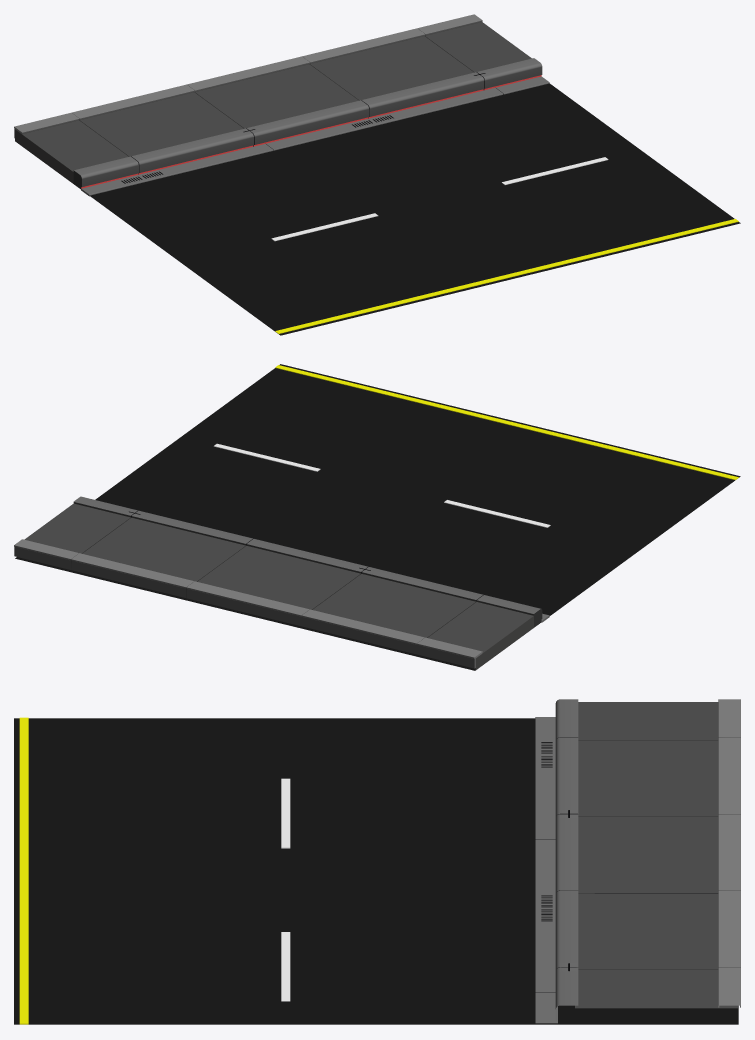
The picture shows the model from 3 angles, top to bottom: view 1: azimuth 30°, elevation 25°; view 2: azimuth 150°, elevation 25°; view 3: azimuth 270°, elevation 25°; orthographic projection. The views are drawn at different scales.
Visible parts, largest first — view 1: W_R_001_8x8_B; view 2: W_R_001_8x8_B; view 3: W_R_001_8x8_B.
Boxes of the visible parts, box(x1,y1,x2,y2) form: W_R_001_8x8_B: box(14, 14, 740, 335); W_R_001_8x8_B: box(14, 364, 740, 670); W_R_001_8x8_B: box(14, 699, 740, 1024).
Bounding box in the file's own units: 8 × 0.2455 × 8.02.
